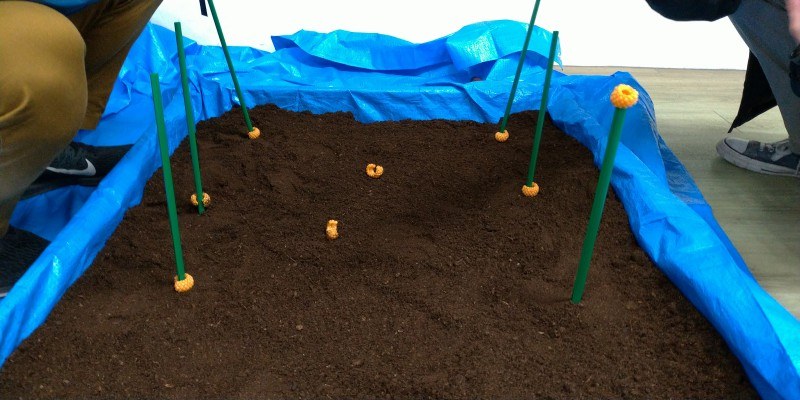eggs: (608, 83, 642, 112), (170, 267, 195, 296), (189, 187, 214, 209), (519, 177, 541, 200), (363, 159, 384, 181), (322, 217, 340, 240), (245, 122, 263, 141), (495, 125, 511, 143)
